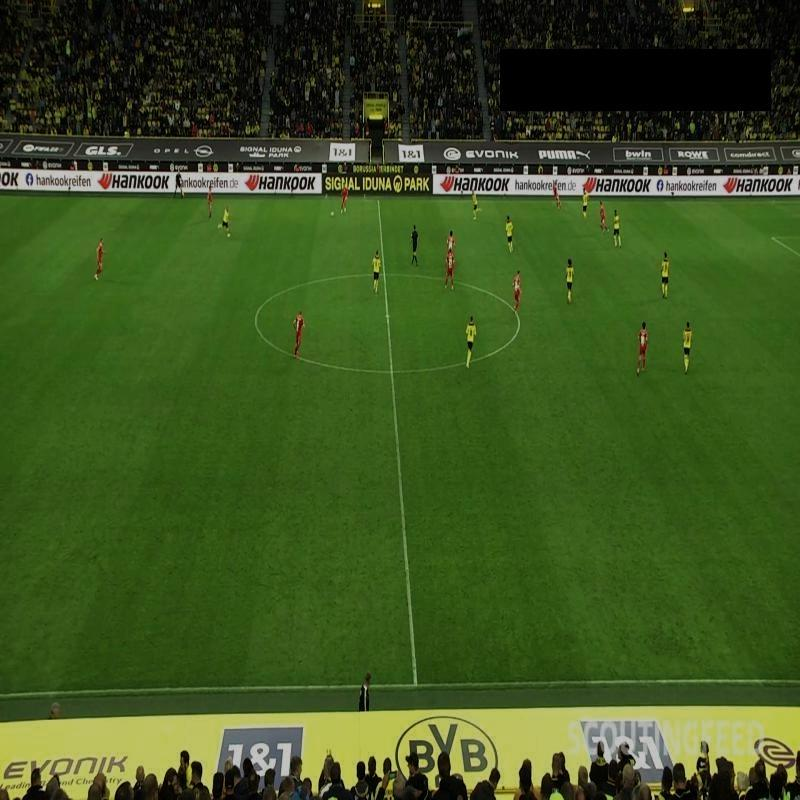13: (372, 192, 386, 206)
14: (378, 267, 392, 282)
15: (384, 363, 400, 380)
16: (408, 674, 426, 696)
9: (766, 231, 780, 244)
c: (509, 310, 530, 331), (249, 312, 263, 326)
